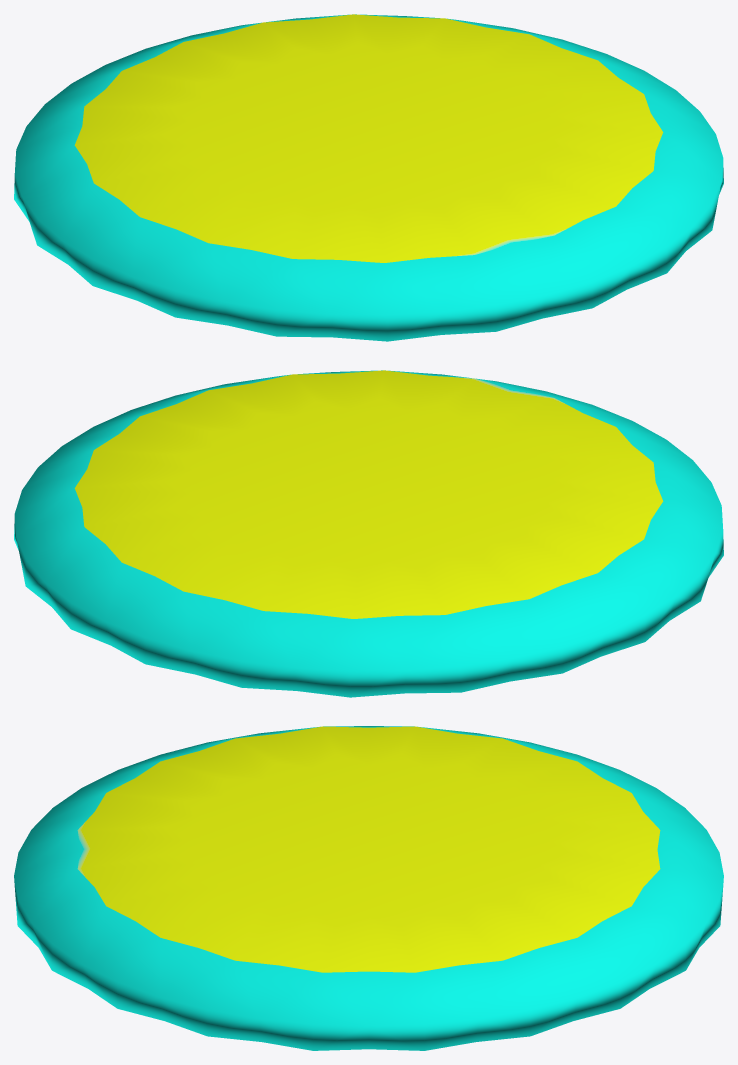
Rendered from pickup_yellow.fbx.
3 views of the same model, one above another, from view 1: azimuth 30°, elevation 25°; view 2: azimuth 150°, elevation 25°; view 3: azimuth 270°, elevation 25° (orthographic).
Visible parts, largest first — view 1: pCylinder1; view 2: pCylinder1; view 3: pCylinder1.
Boxes of the visible parts, x1=… form: pCylinder1: x1=14, y1=14, x2=723, y2=341; pCylinder1: x1=14, y1=370, x2=723, y2=697; pCylinder1: x1=14, y1=726, x2=723, y2=1050.
Size of the model in its own units: 1.75 by 0.1917 by 1.75.
1 material, 1 textured.
